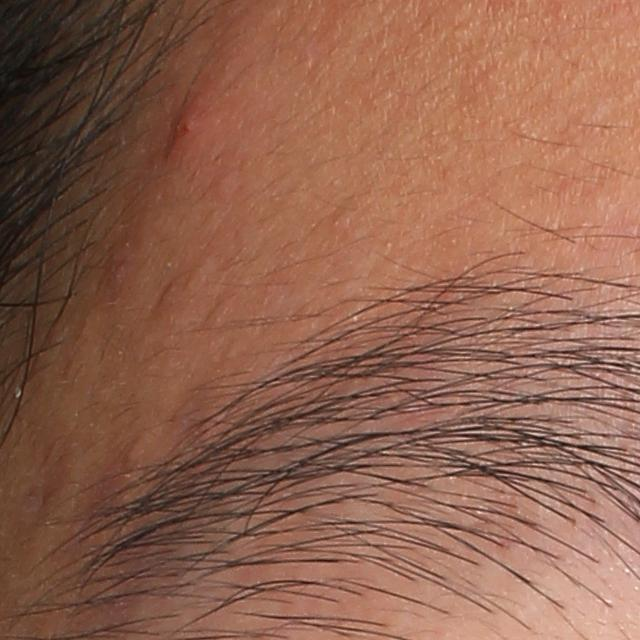papule: (158, 74, 207, 162)
